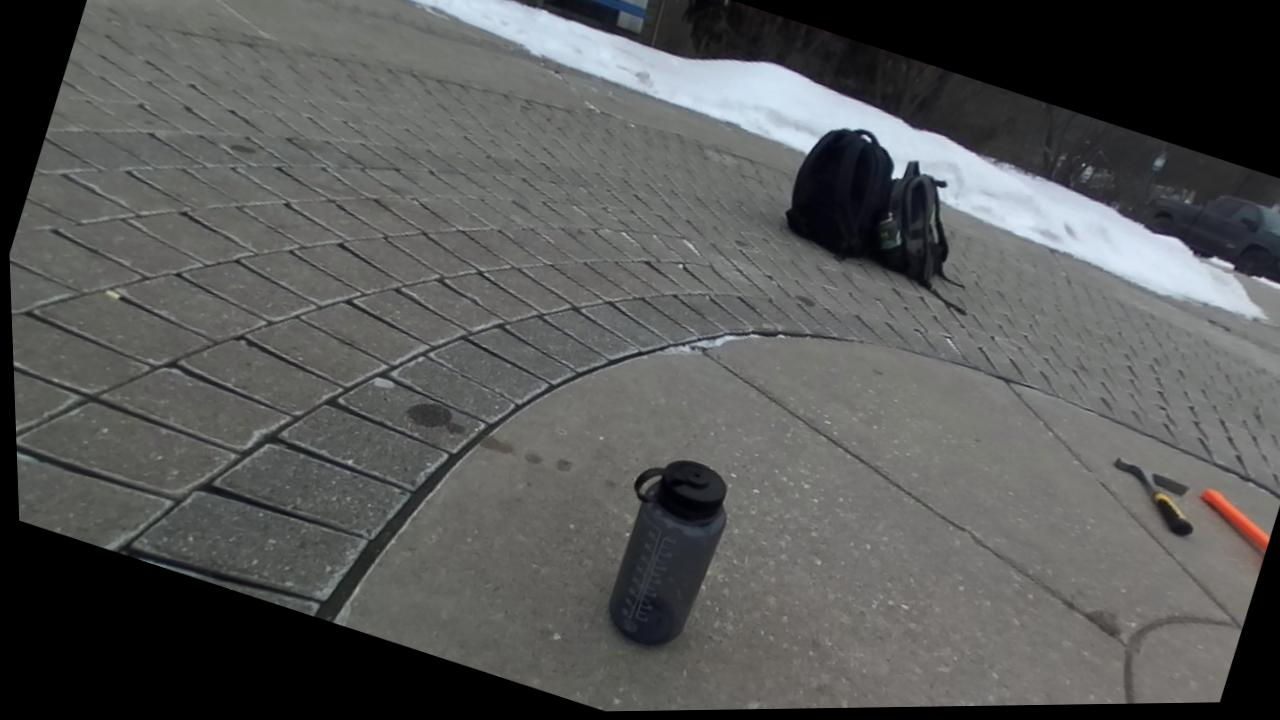bottle: (608, 460, 727, 645)
pick: (1115, 458, 1192, 535)
